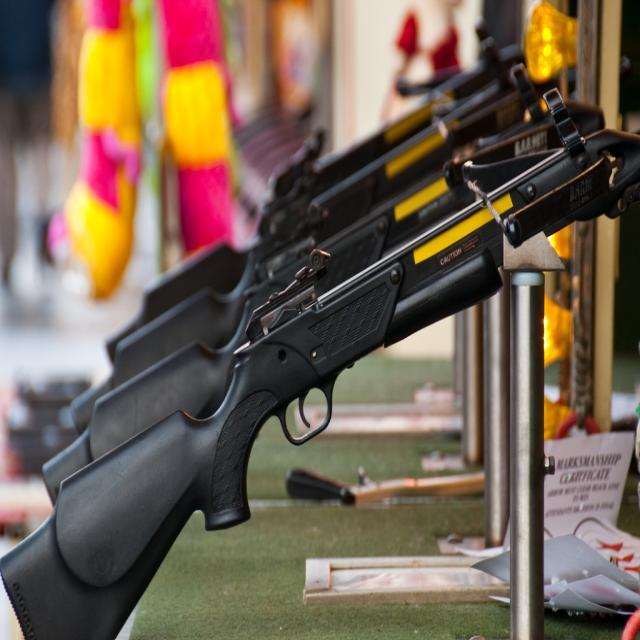weapon: (39, 62, 607, 513), (69, 54, 562, 438), (102, 14, 528, 357)
